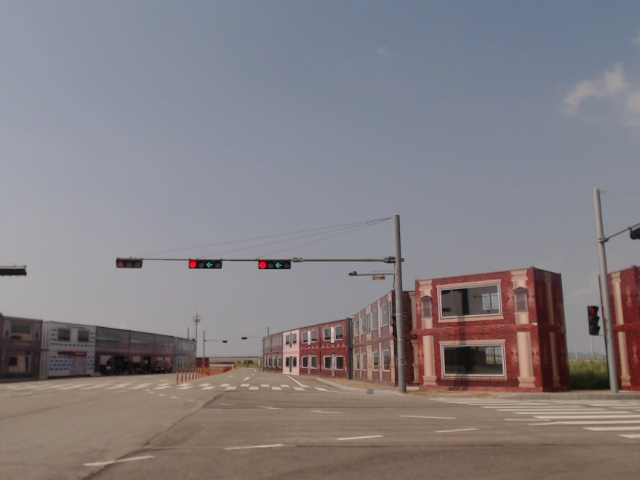left_green_4: (189, 260, 223, 268), (259, 261, 291, 269)
